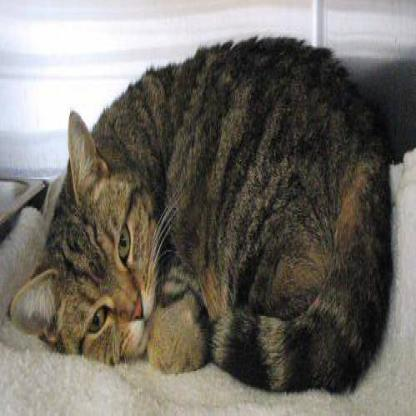cat: (38, 109, 254, 395)
